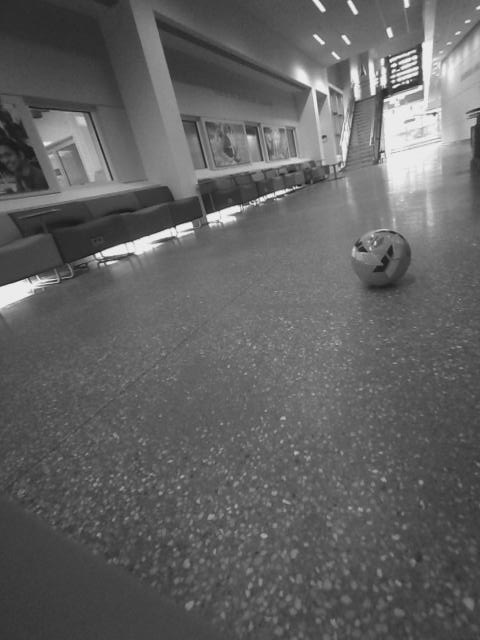ball: (345, 223, 419, 290)
